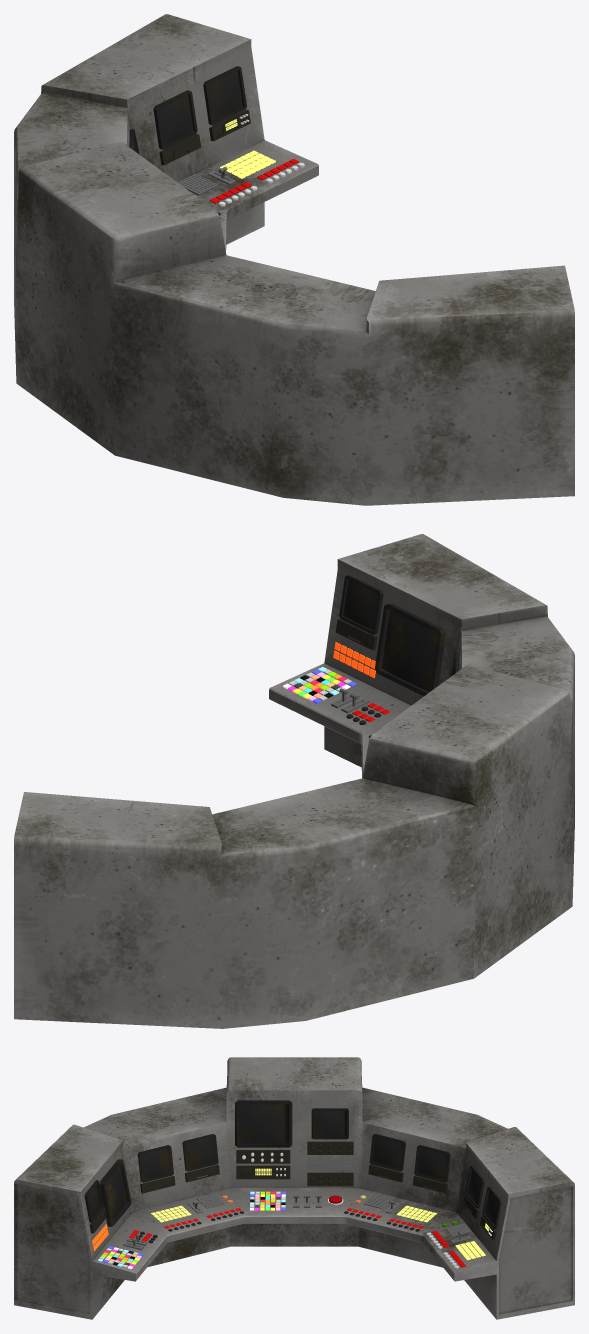
File: control_panel.fbx
3 views of the same model, one above another, from view 1: azimuth 30°, elevation 25°; view 2: azimuth 150°, elevation 25°; view 3: azimuth 270°, elevation 25° (orthographic). The views are drawn at different scales.
Visible parts, largest first — view 1: Cube.018, Cube.109, Cube.090, Cube.107; view 2: Cube.018, Cube.109, Cube.153, Cube.029, Cube.090; view 3: Cube.018, Cube.109, Cube.090, Cube.084, Cube.095, Cube.017, Cube.108, Cube.153, Cube.051, Cube.077, Cube.107.
Boxes of the visible parts, bbox=[...] form: Cube.018: bbox=[14, 14, 574, 505]; Cube.109: bbox=[129, 66, 247, 154]; Cube.090: bbox=[159, 110, 250, 165]; Cube.107: bbox=[220, 150, 275, 178]; Cube.018: bbox=[14, 534, 574, 1028]; Cube.109: bbox=[339, 575, 459, 696]; Cube.153: bbox=[283, 667, 356, 703]; Cube.029: bbox=[333, 642, 375, 677]; Cube.090: bbox=[335, 619, 377, 650]; Cube.018: bbox=[14, 1057, 574, 1319]; Cube.109: bbox=[84, 1100, 501, 1228]; Cube.090: bbox=[89, 1141, 496, 1239]; Cube.084: bbox=[197, 1158, 471, 1236]; Cube.095: bbox=[129, 1208, 466, 1267]; Cube.017: bbox=[250, 1191, 285, 1210]; Cube.108: bbox=[123, 1196, 471, 1250]; Cube.153: bbox=[98, 1246, 143, 1269]; Cube.051: bbox=[396, 1205, 436, 1222]; Cube.077: bbox=[151, 1205, 191, 1222]; Cube.107: bbox=[455, 1241, 485, 1260].
Bounding box in the file's own units: 263 × 147 × 504.
